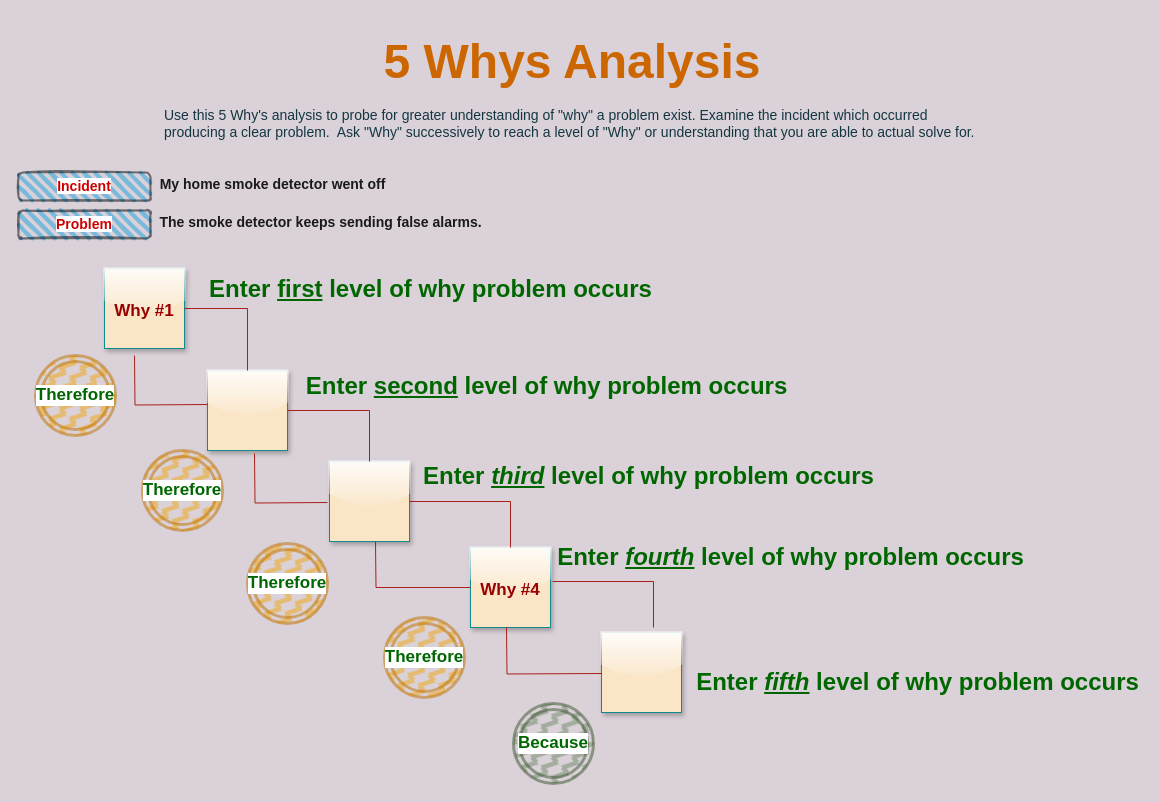
The diagram is 1160 pixels wide and 802 high, and some of its shapes have lost their labels. Here are the shapes that lost their labels. From the top down, the centre of each, then its label:
At [248,412]: "Why #2".
At [370,502]: "Why #3".
At [642,674]: "Why #5".
